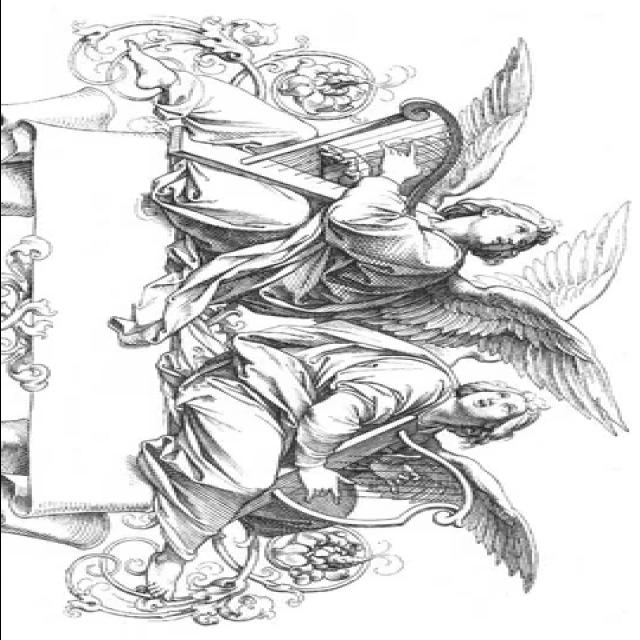angel: (126, 329, 571, 569)
